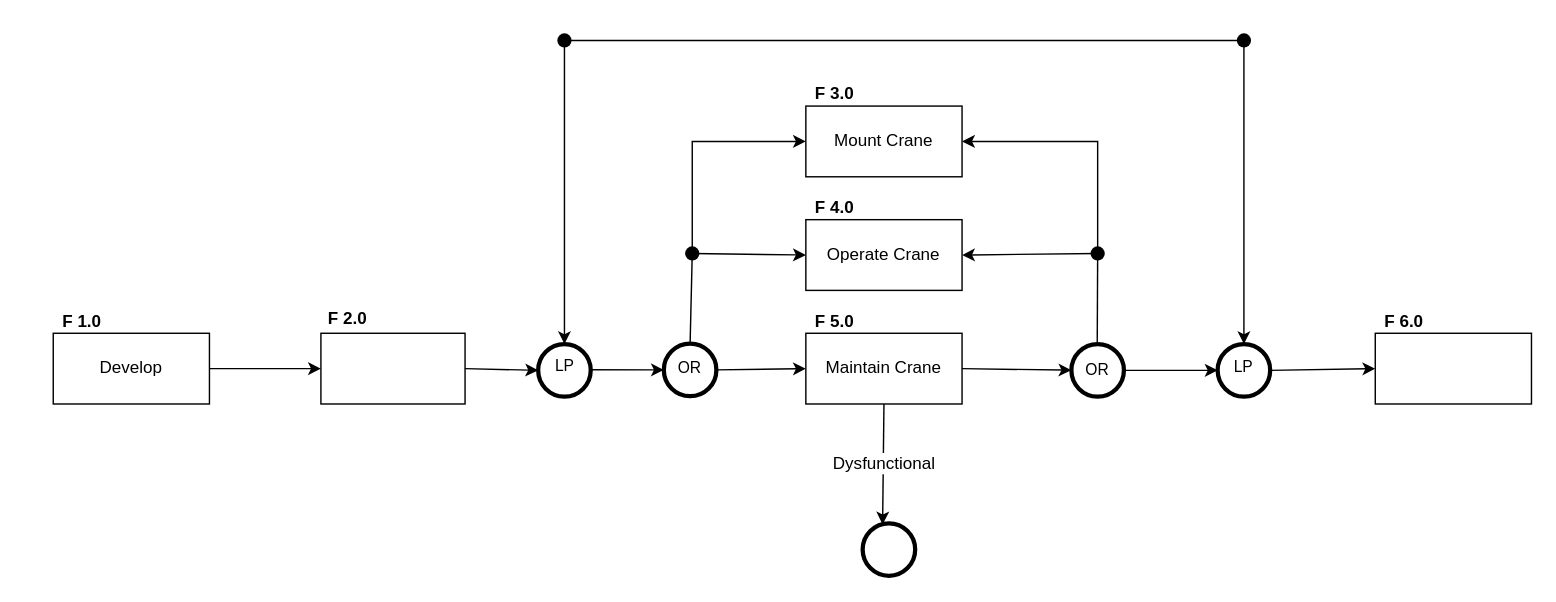
This 1556x602 diagram has some shape labels left out. The shapes that lost their labels are listed below. From the top down, each one's box as (x1, y1, x2, y2) in pixels, then its label:
(320, 332, 465, 404): Deploy
(1374, 332, 1531, 404): Decomission
(860, 520, 917, 577): LE
